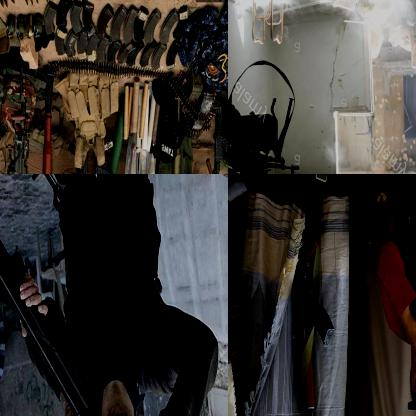rifle: (0, 174, 139, 415), (288, 174, 335, 415), (228, 116, 303, 173), (33, 70, 59, 173), (0, 98, 34, 173), (202, 96, 228, 173), (58, 135, 89, 173), (92, 140, 124, 173)
